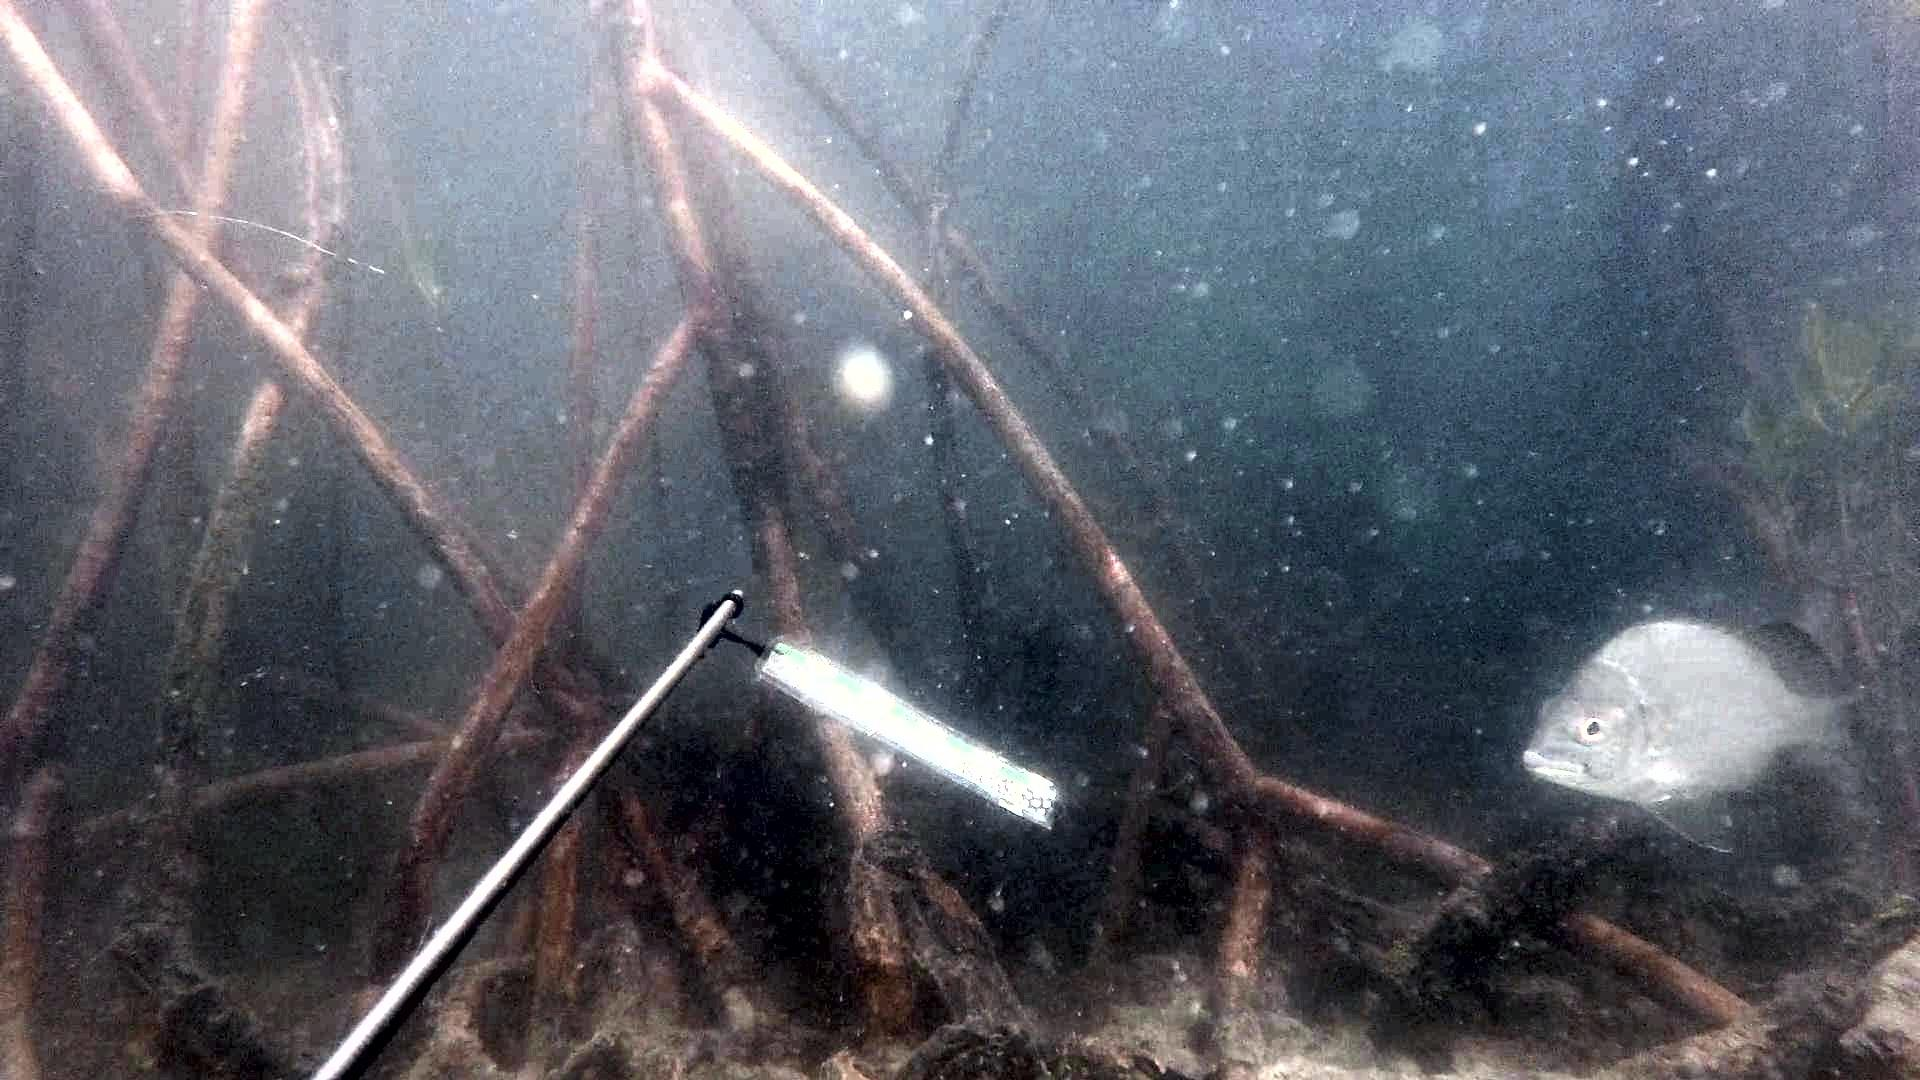acanthopagrus palmaris: (1509, 608, 1920, 862)
